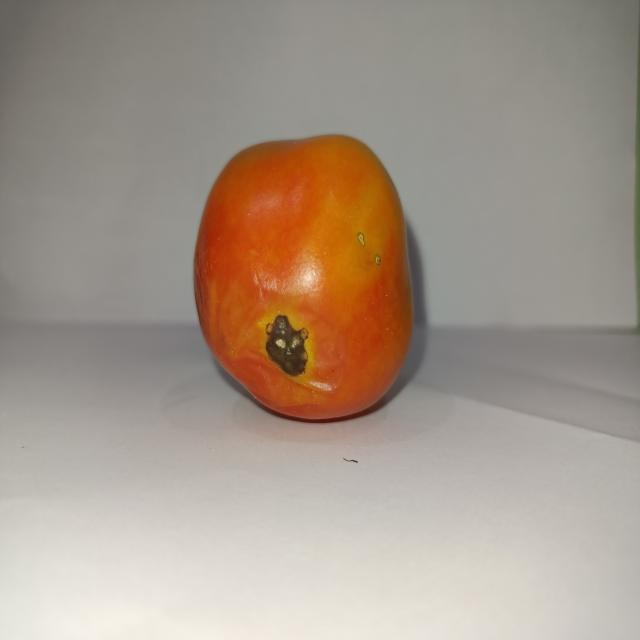Red: (191, 132, 414, 423)
